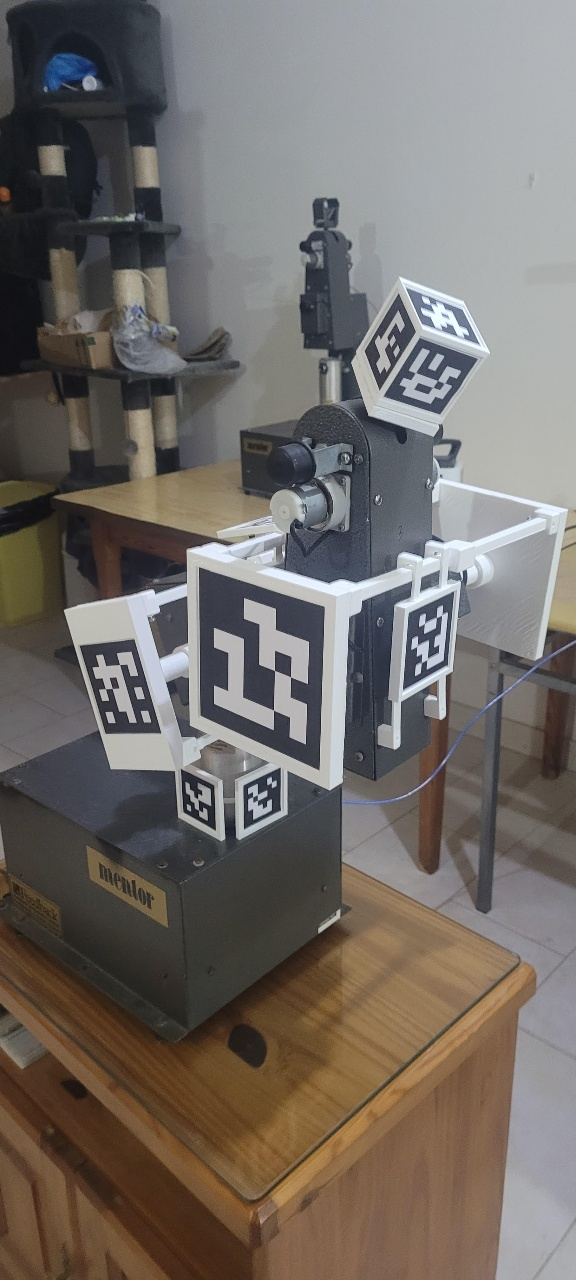Robot: (61, 275, 571, 846)
